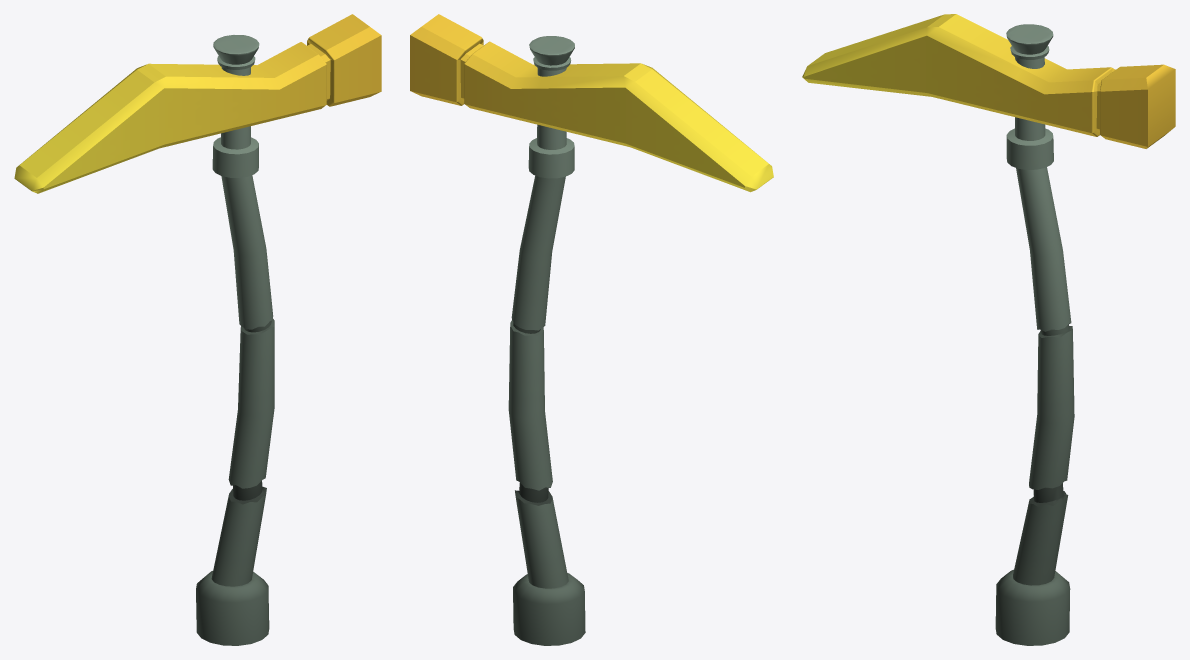
The model's file is Pickaxe_Level_01.fbx.
3 renders of one model, left to right at view 1: azimuth 30°, elevation 25°; view 2: azimuth 150°, elevation 25°; view 3: azimuth 330°, elevation 25°, orthographic. The views are drawn at different scales.
Visible parts, largest first — view 1: Pickaxe_Level_01; view 2: Pickaxe_Level_01; view 3: Pickaxe_Level_01.
Part boxes in pixels (<box>): Pickaxe_Level_01: <box>14,14,381,645</box>; Pickaxe_Level_01: <box>410,14,773,645</box>; Pickaxe_Level_01: <box>802,14,1175,645</box>.
Bounding box in the file's own units: 0.6077 × 0.9924 × 0.1137.
